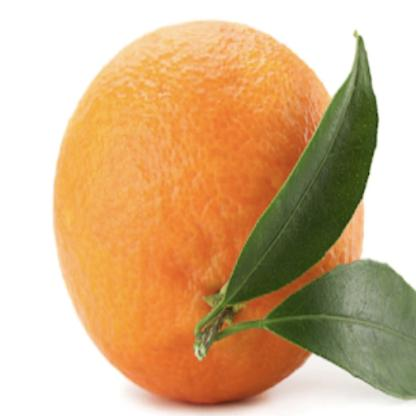rotten: (52, 28, 366, 411)
